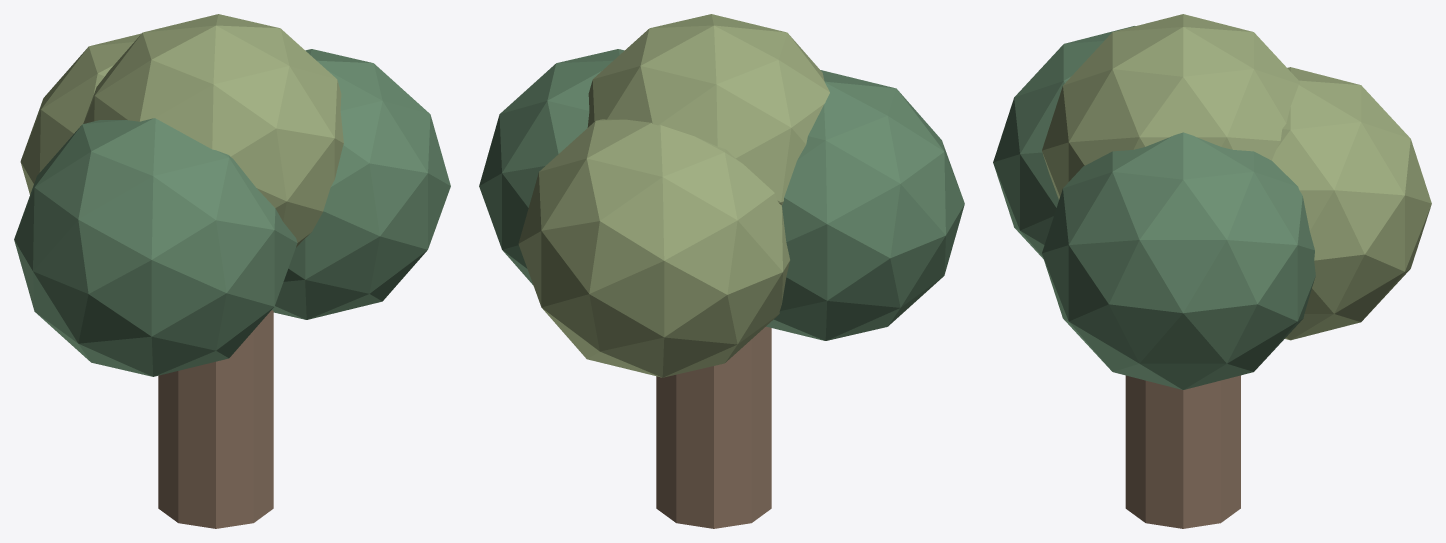
Rendered from roble.glb.
3 renders of one model, left to right at view 1: azimuth 30°, elevation 25°; view 2: azimuth 150°, elevation 25°; view 3: azimuth 270°, elevation 25°, orthographic.
Visible parts, largest first — view 1: world; view 2: world; view 3: world.
Part boxes in pixels (left/top/right/bottom): world: left=14, top=14, right=450, bottom=528; world: left=479, top=14, right=964, bottom=528; world: left=993, top=14, right=1431, bottom=528.
Bounding box in the file's own units: 3.8 × 4.1 × 3.42.
